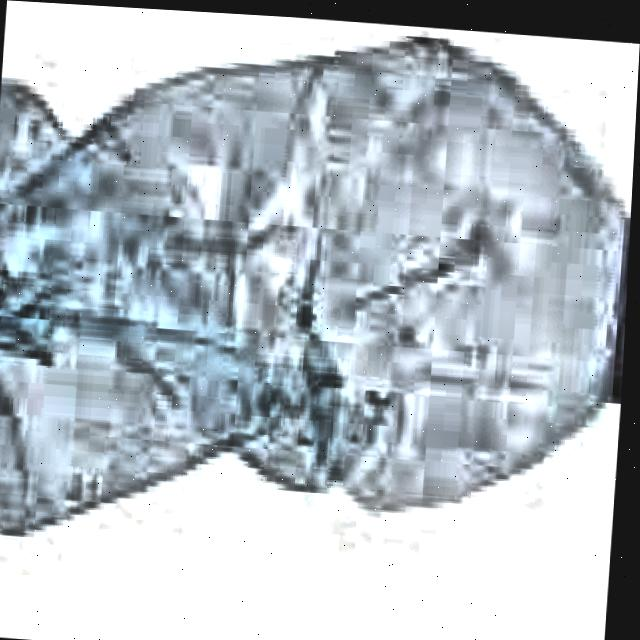plastic: (0, 0, 640, 627)
